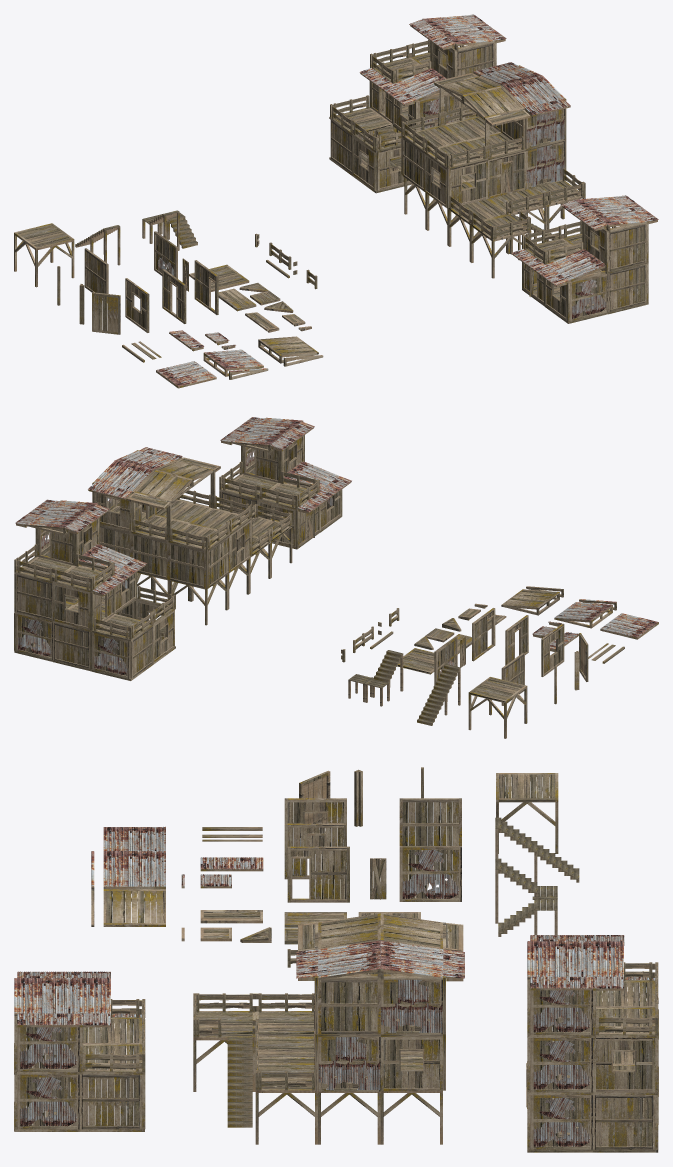
The model's file is modular house 1.fbx.
3 views of the same model, one above another, from view 1: azimuth 30°, elevation 25°; view 2: azimuth 150°, elevation 25°; view 3: azimuth 270°, elevation 25° (orthographic). The views are drawn at different scales.
Parts seen in each view (by area): view 1: floor1.005, wooden fence long.002, wooden wall with door.025, floor1.004, floor1.003, medium wooden floor.004, rusty roof (1).001, wooden roof, rusty roof (1).002, wooden wall with window.002, wooden wall with door.001, wooden wall .001 (+4 smaller); view 2: wooden fence long.002, floor1.005, wooden wall with door.025, floor1.004, floor1.003, floor1.002, rusty roof (1).001, wooden roof, rusty roof (1).002, wooden wall with window.002, wooden wall with door.005, wooden wall with door.001 (+3 smaller); view 3: floor1.005, wooden fence long.002, wooden wall with door.025, Plane.002, wooden wall .001, wooden wall with door.005, rusty roof (1).001, floor1.004, wooden roof, floor1.003, wooden wall with door.001, wooden wall with window.002 (+7 smaller).
Part boxes in pixels (x1,y1,x2,y2): floor1.005: (401, 62, 585, 278); wooden fence long.002: (329, 14, 506, 193); wooden wall with door.025: (511, 195, 658, 323); floor1.004: (14, 223, 74, 287); floor1.003: (142, 210, 197, 250); medium wooden floor.004: (92, 292, 120, 334); rusty roof (1).001: (203, 349, 263, 376); wooden roof: (258, 336, 318, 363); rusty roof (1).002: (156, 361, 216, 388); wooden wall with window.002: (125, 278, 149, 332); wooden wall with door.001: (162, 269, 186, 323); wooden wall .001: (84, 248, 108, 302); wooden fence long.002: (14, 499, 175, 680); floor1.005: (88, 447, 292, 625); wooden wall with door.025: (219, 417, 351, 549); floor1.004: (468, 677, 527, 738); floor1.003: (348, 650, 403, 706); floor1.002: (417, 664, 460, 725); rusty roof (1).001: (554, 602, 612, 628); wooden roof: (501, 589, 559, 615); rusty roof (1).002: (600, 613, 658, 639); wooden wall with window.002: (541, 623, 564, 676); wooden wall with door.005: (472, 608, 495, 661); wooden wall with door.001: (505, 615, 528, 665); floor1.005: (193, 913, 464, 1144); wooden fence long.002: (527, 935, 658, 1152); wooden wall with door.025: (14, 971, 145, 1131); Plane.002: (399, 846, 461, 901); wooden wall .001: (399, 798, 461, 853); wooden wall with door.005: (287, 846, 349, 902); rusty roof (1).001: (103, 851, 165, 889); floor1.004: (496, 773, 558, 853); wooden roof: (103, 889, 165, 926); floor1.003: (495, 858, 557, 936); wooden wall with door.001: (284, 823, 346, 879); wooden wall with window.002: (284, 798, 346, 853).
Size of what is drawn, in the model's own units: 7933 by 2024 by 6432.
Materials: 2 (2 with a texture image).
